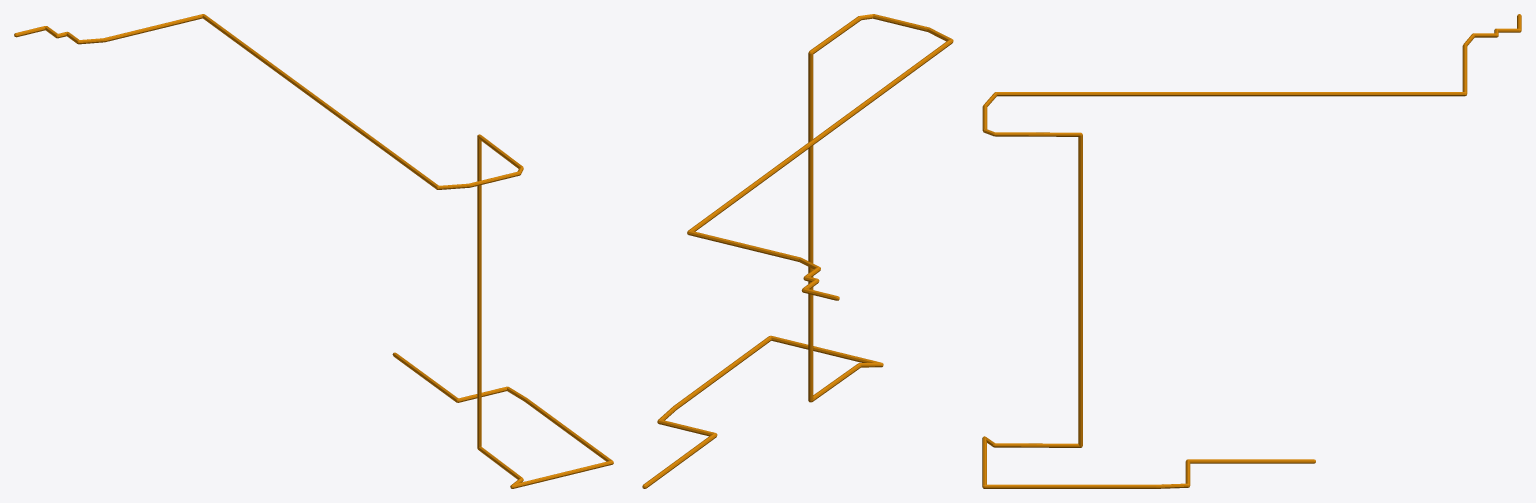
The picture shows the model from 3 angles, left to right: view 1: azimuth 30°, elevation 25°; view 2: azimuth 150°, elevation 25°; view 3: azimuth 270°, elevation 25°; orthographic projection. The views are drawn at different scales.
Size of the model in its own units: 1671 by 1520 by 2358.
